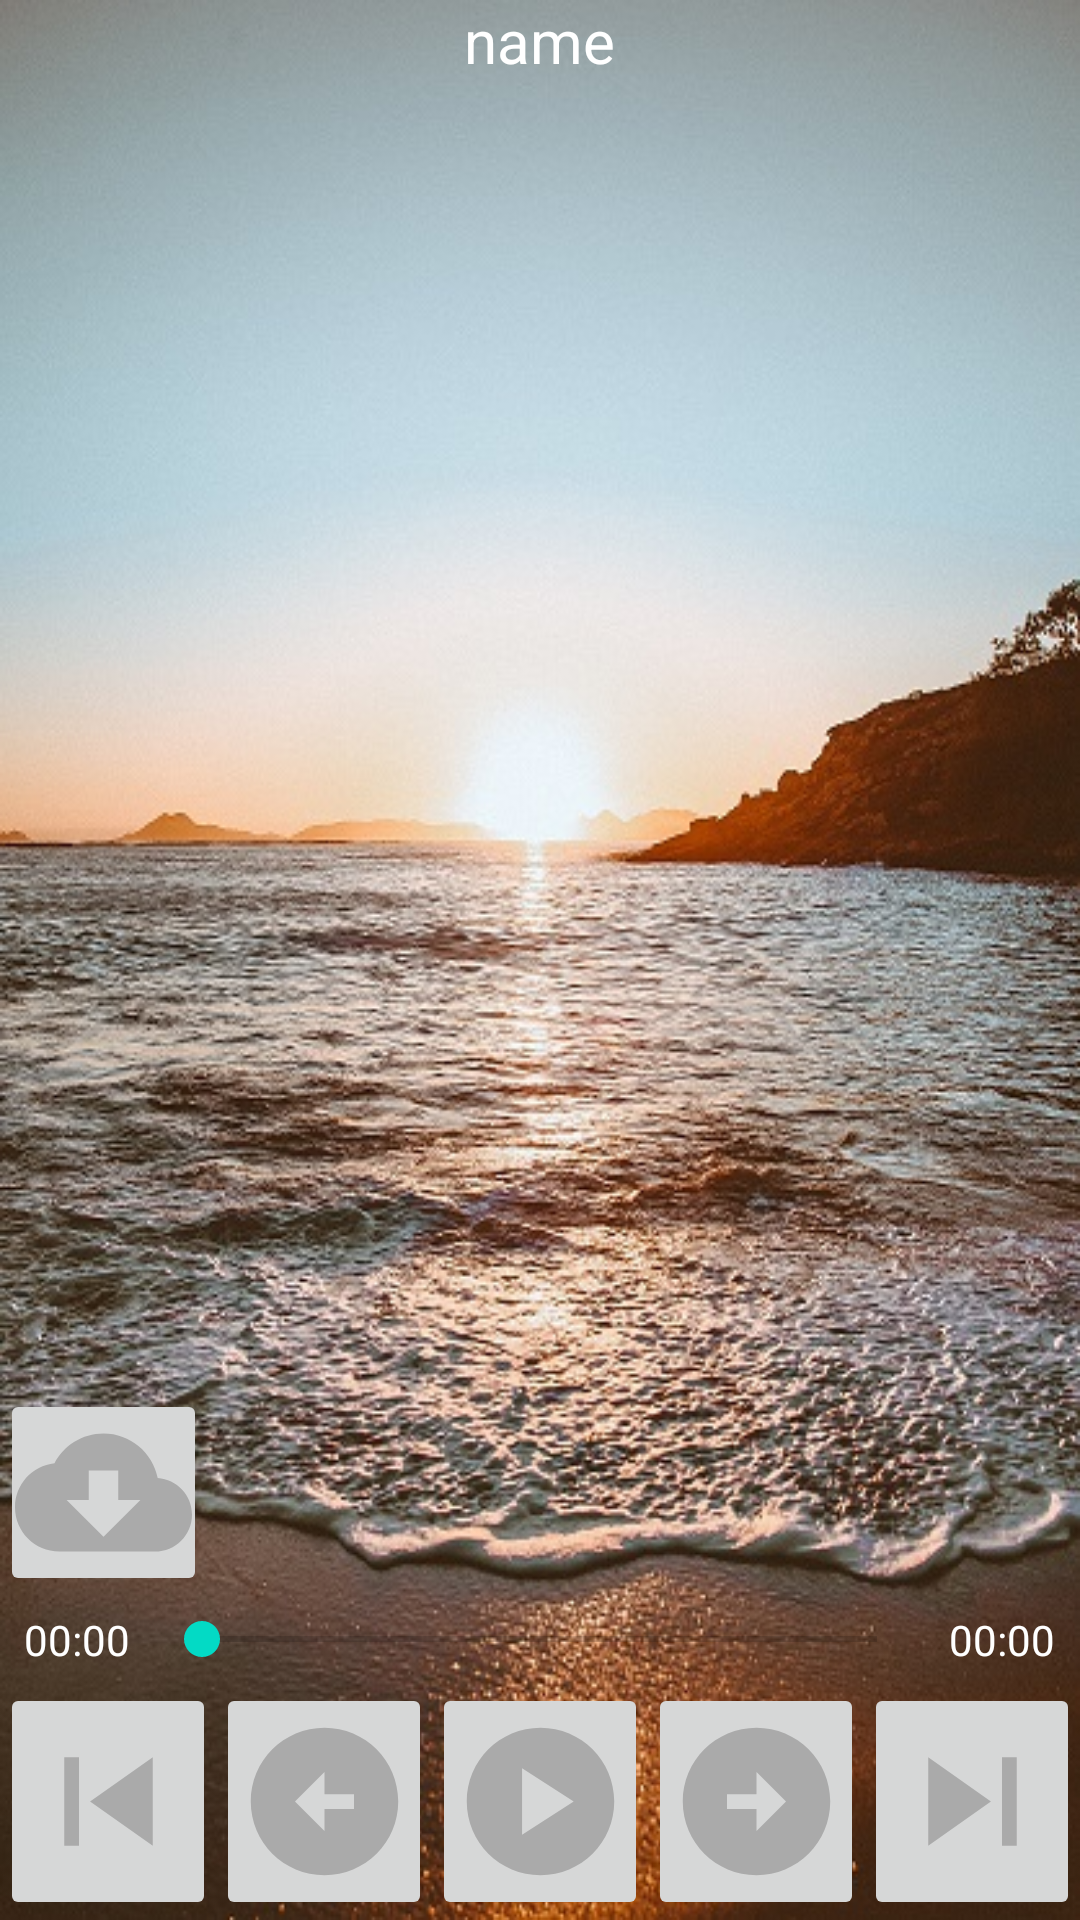

Point at icon controls on the screen. Image size 1080x1920, points as (x,y).
arrow circle left: (330,1801)
arrow circle right: (756,1801)
cloud download: (103,1492)
play circle: (540,1801)
skip next: (966,1793)
skip previous: (113,1794)
